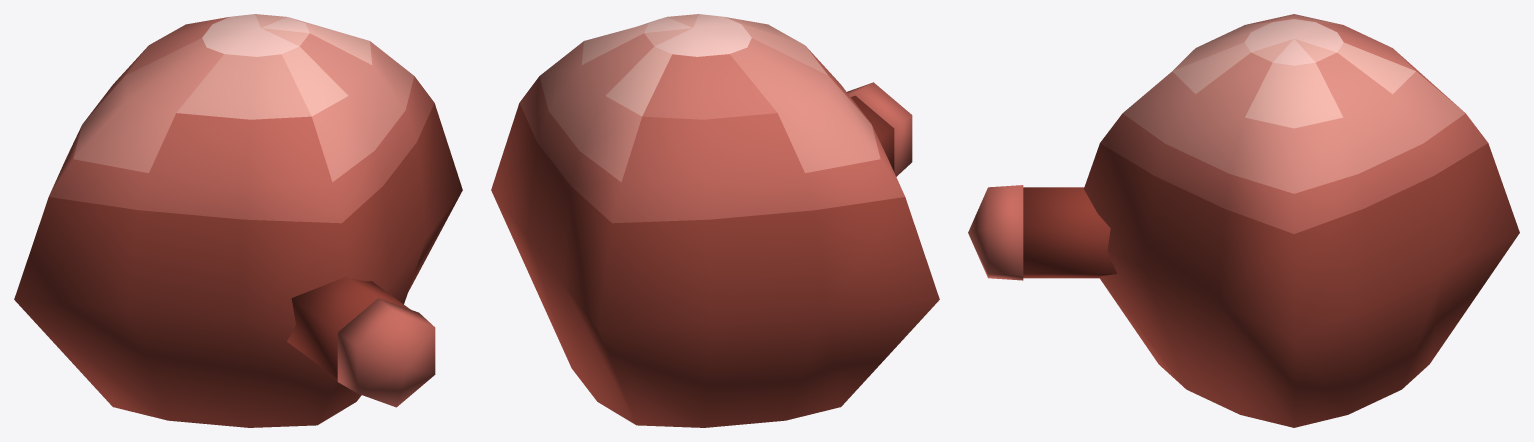
File: newshv-57.glb
3 views of the same model, side by side, from view 1: azimuth 30°, elevation 25°; view 2: azimuth 150°, elevation 25°; view 3: azimuth 270°, elevation 25° (orthographic). The views are drawn at different scales.
Visible parts, largest first — view 1: newshv-57, newshv-57_stalk; view 2: newshv-57, newshv-57_stalk; view 3: newshv-57, newshv-57_stalk.
Part boxes in pixels (bbox=[...]): newshv-57: bbox=[14, 14, 462, 427]; newshv-57_stalk: bbox=[287, 277, 435, 407]; newshv-57: bbox=[491, 14, 939, 427]; newshv-57_stalk: bbox=[847, 82, 912, 176]; newshv-57: bbox=[1084, 14, 1519, 427]; newshv-57_stalk: bbox=[968, 185, 1117, 280].
Size of the model in its own units: 0.8333 by 0.6667 by 0.9167.
